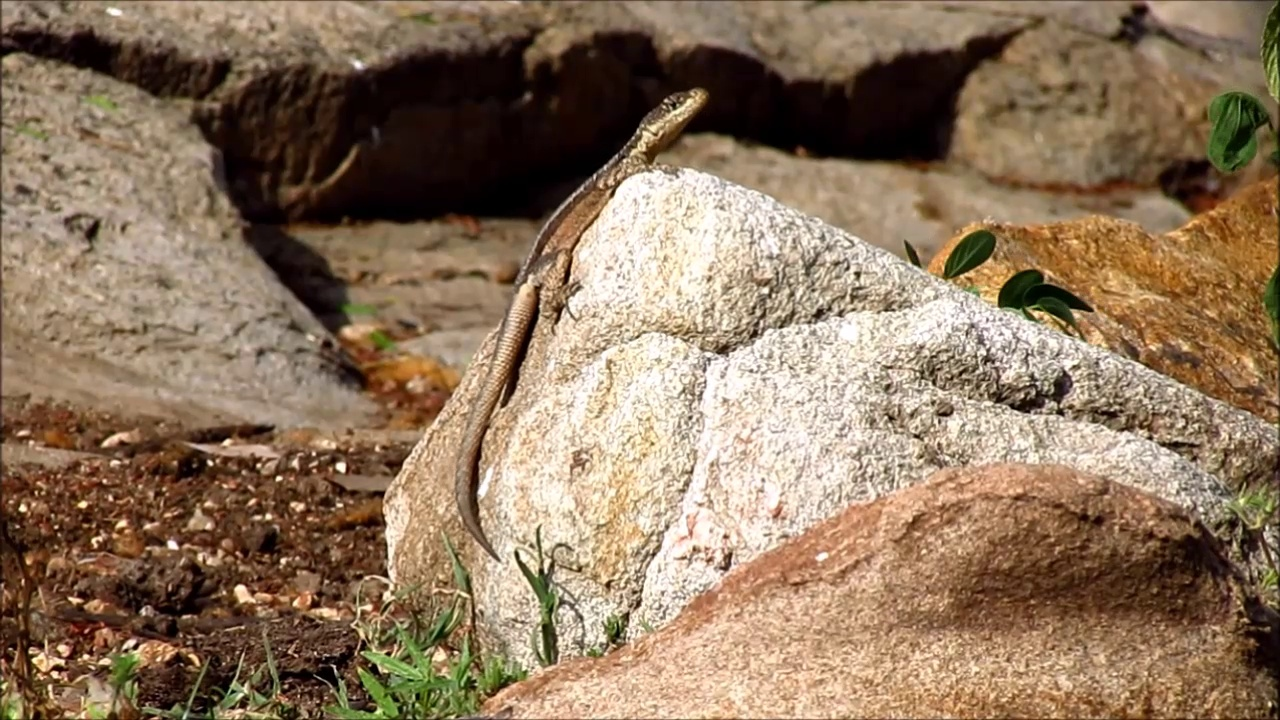body: (450, 118, 645, 550)
head: (645, 87, 706, 147)
